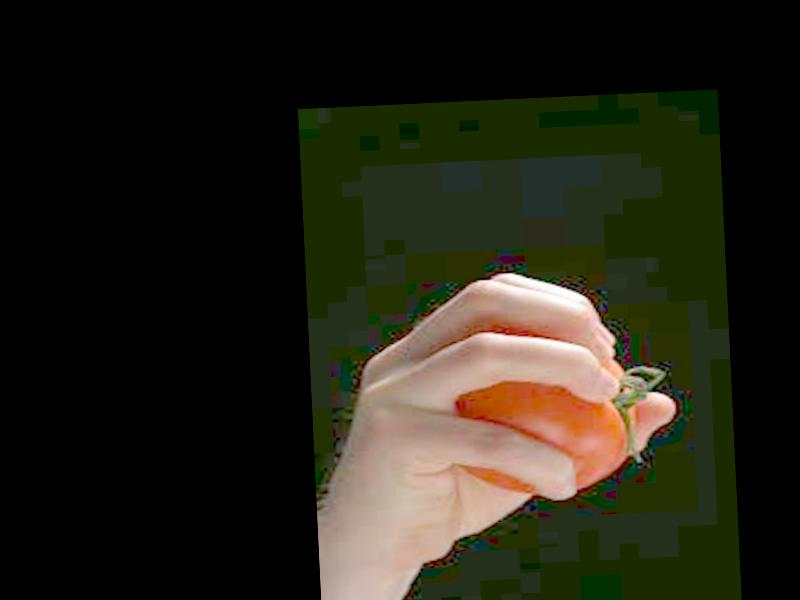Tomato: (447, 356, 630, 497)
